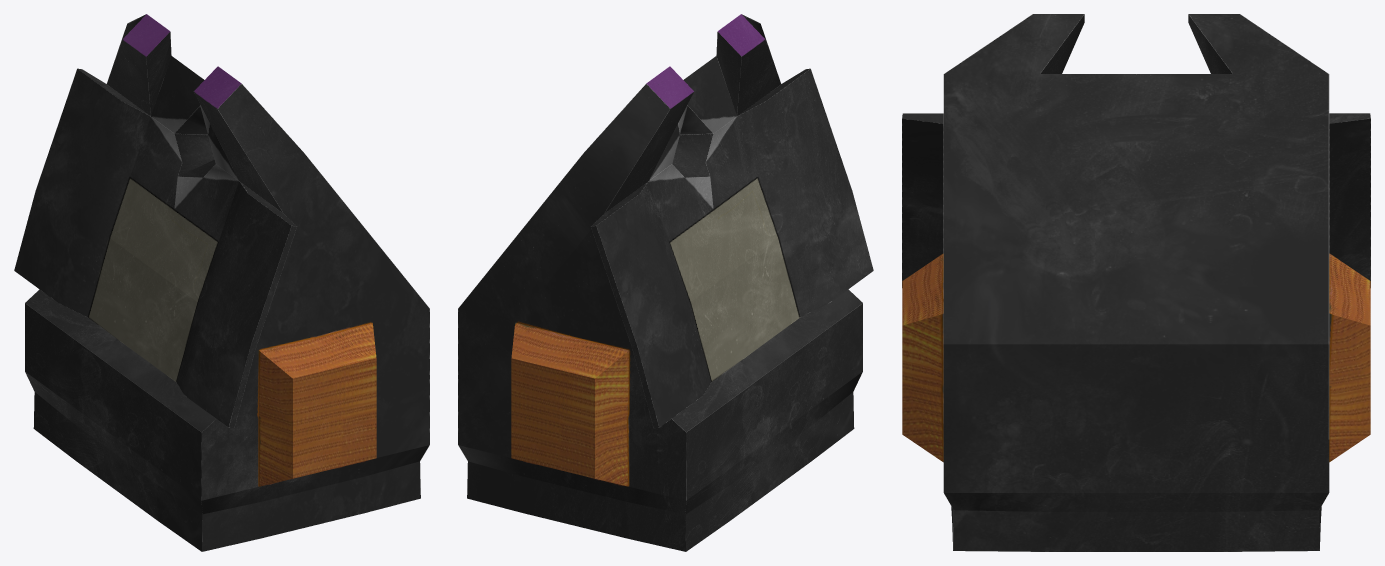
File: Terminal.fbx
3 views of the same model, side by side, from view 1: azimuth 30°, elevation 25°; view 2: azimuth 150°, elevation 25°; view 3: azimuth 270°, elevation 25° (orthographic). The views are drawn at different scales.
Parts seen in each view (by area): view 1: pCube1; view 2: pCube1; view 3: pCube1.
Part boxes in pixels (x1,y1,x2,y2): pCube1: (14, 14, 429, 551); pCube1: (458, 14, 873, 551); pCube1: (902, 14, 1370, 551).
Bounding box in the file's own units: 2.23 × 3.96 × 3.64.
